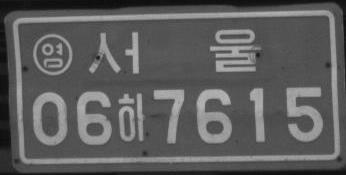0: (31, 91, 68, 146)
1: (241, 87, 275, 143)
5: (285, 86, 323, 142)
6: (195, 88, 233, 145), (76, 90, 111, 146)
7: (153, 88, 185, 145)
서울_D: (88, 28, 261, 75)
영: (33, 32, 73, 76)
하: (117, 91, 147, 142)
